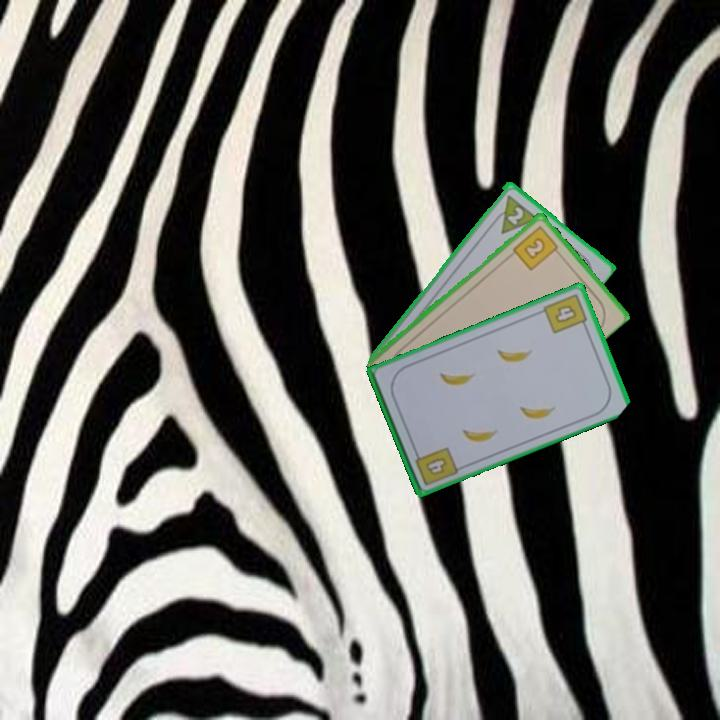2b: (509, 222, 563, 273)
2p: (487, 191, 540, 237)
4b: (540, 290, 591, 337), (411, 443, 461, 488)
